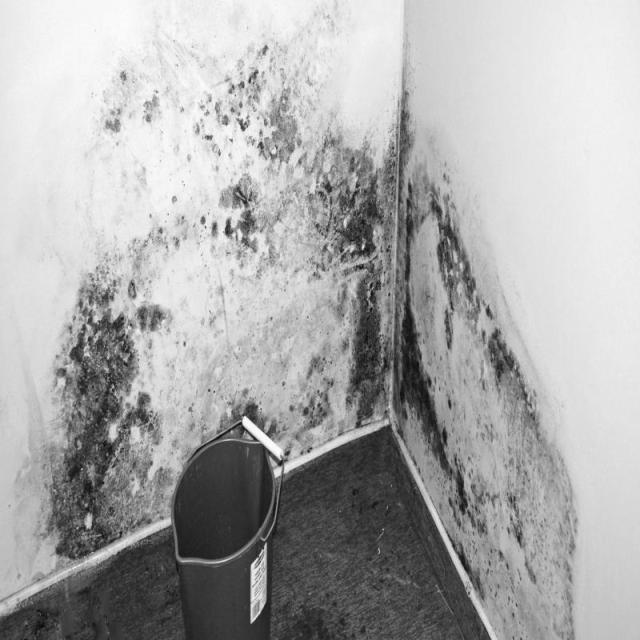stain marks: (27, 24, 590, 640)
